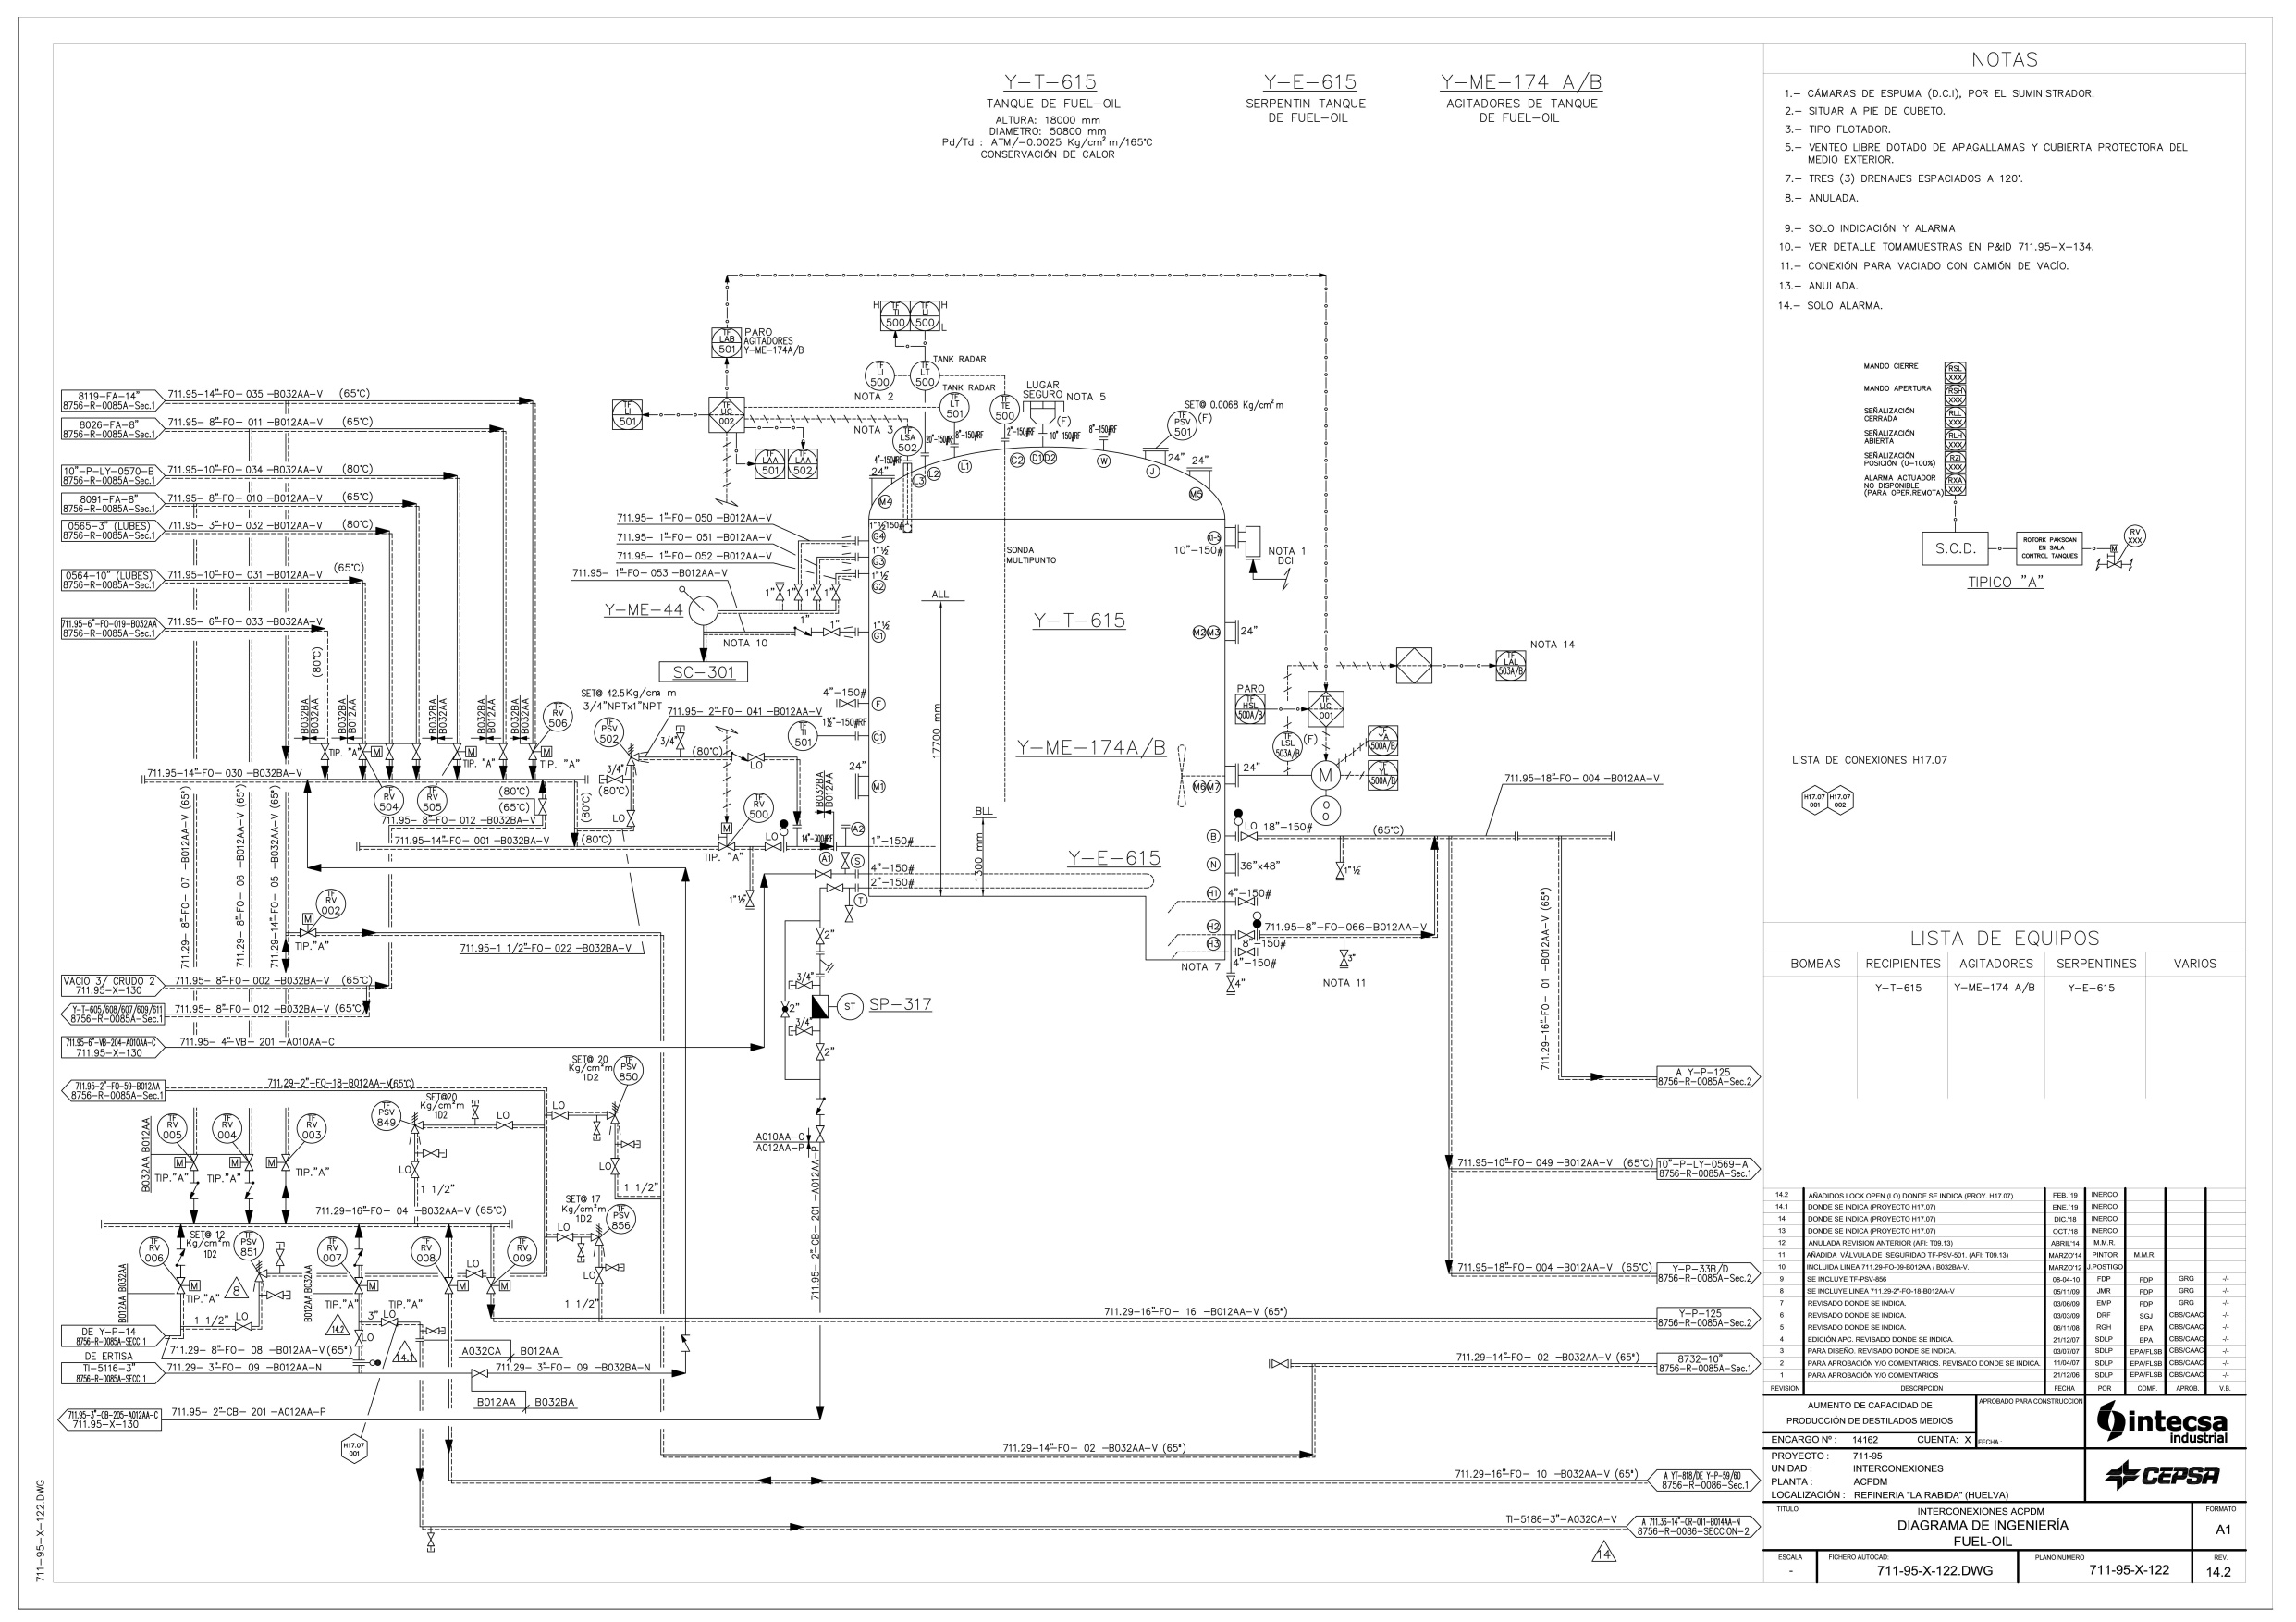Inline Instrument: (908, 358, 941, 391), (864, 358, 897, 391), (939, 390, 972, 423), (988, 393, 1022, 427), (1166, 409, 1199, 442), (1273, 730, 1306, 764), (542, 699, 576, 732), (593, 716, 627, 750), (786, 720, 820, 753), (743, 790, 776, 823), (314, 886, 348, 920), (613, 1051, 646, 1085), (370, 1099, 404, 1132), (297, 1111, 330, 1145), (211, 1113, 244, 1146), (156, 1111, 190, 1145), (137, 1234, 170, 1267), (232, 1229, 265, 1262), (316, 1234, 349, 1267), (409, 1234, 442, 1267), (506, 1234, 539, 1267), (372, 785, 405, 818), (416, 785, 449, 818), (606, 1202, 637, 1236)
Panel Instrument: (709, 323, 744, 360), (1494, 648, 1529, 685), (1366, 758, 1401, 795), (1366, 721, 1401, 757), (751, 444, 786, 479), (611, 397, 644, 434), (1234, 692, 1267, 728), (786, 444, 820, 481), (879, 298, 913, 334)
